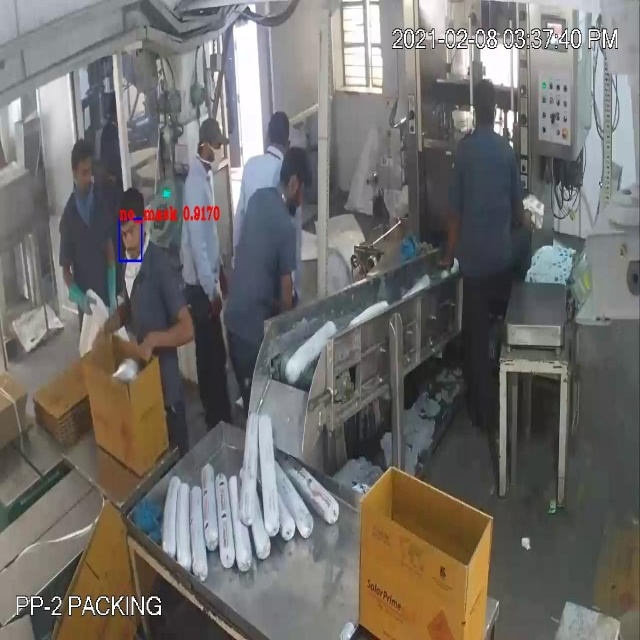Guantes: (57, 270, 102, 324), (99, 245, 124, 323)
Sin_guantes: (134, 308, 201, 363)
